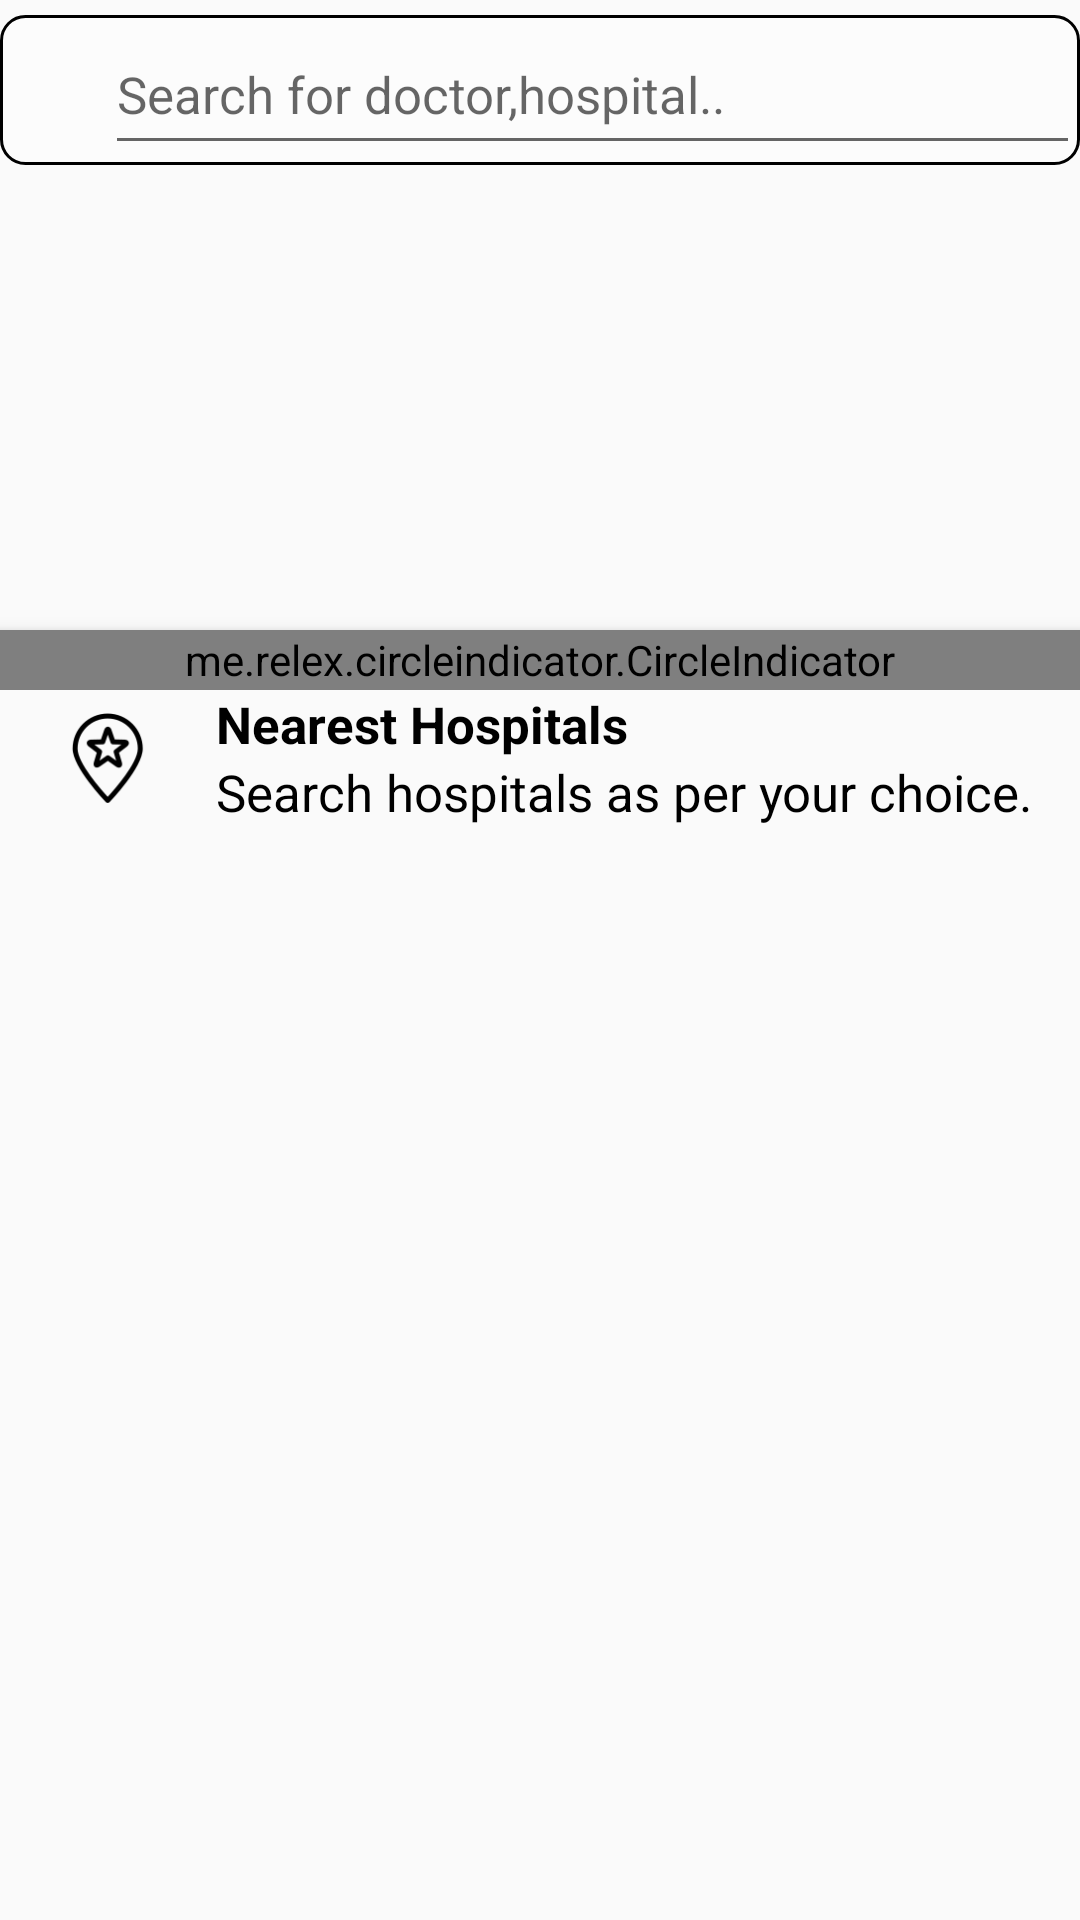

Icon bounding boxes for this 1080 × 1920 phone screenshot, format (x1, y1, x2, y2):
location: (72, 713, 143, 803)
